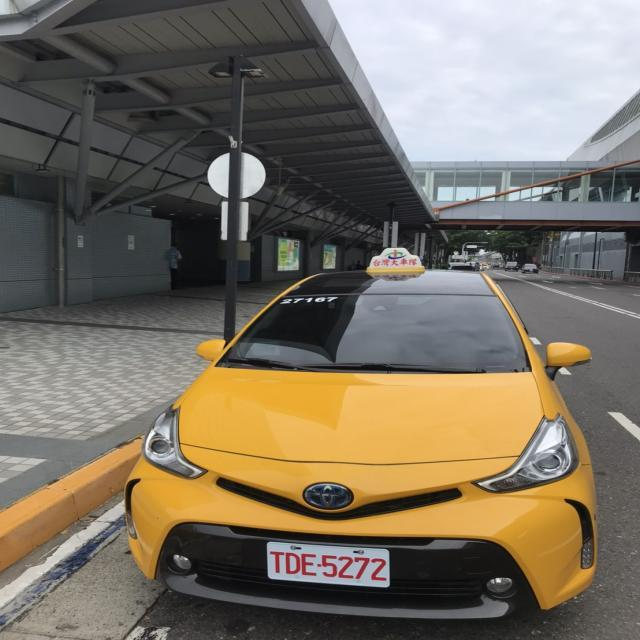Taxi: (122, 259, 599, 619)
